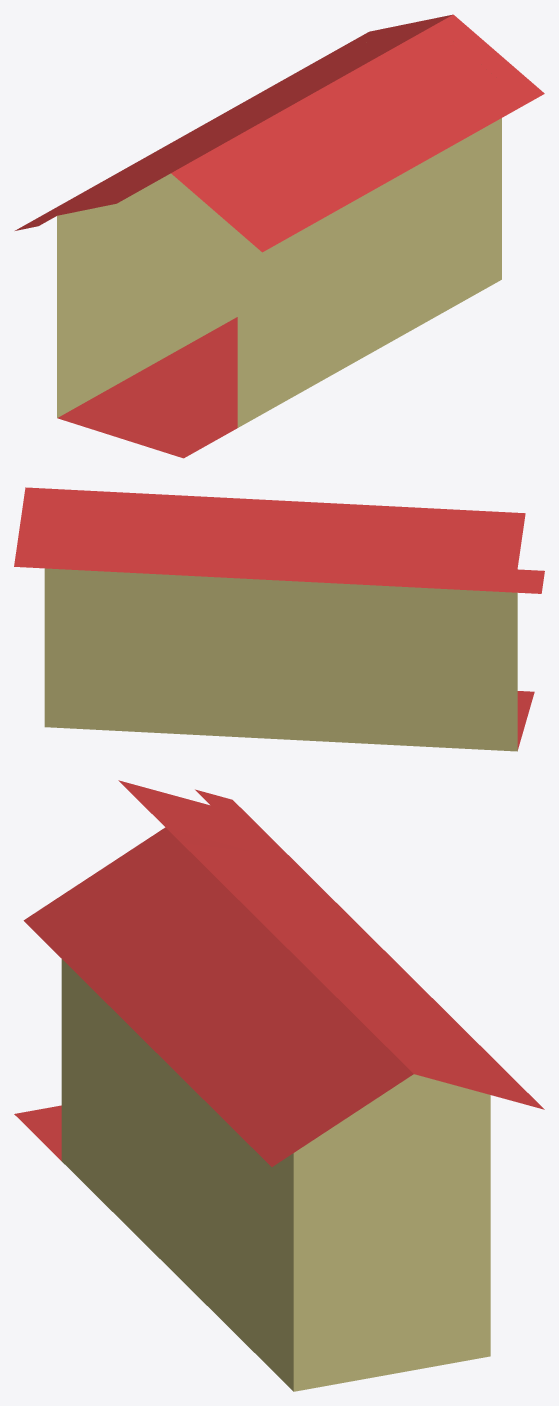
3 views of the same model, one above another, from view 1: azimuth 30°, elevation 25°; view 2: azimuth 150°, elevation 25°; view 3: azimuth 270°, elevation 25° (orthographic). The views are drawn at different scales.
Size of the model in its own units: 20.47 by 12.79 by 8.38.
